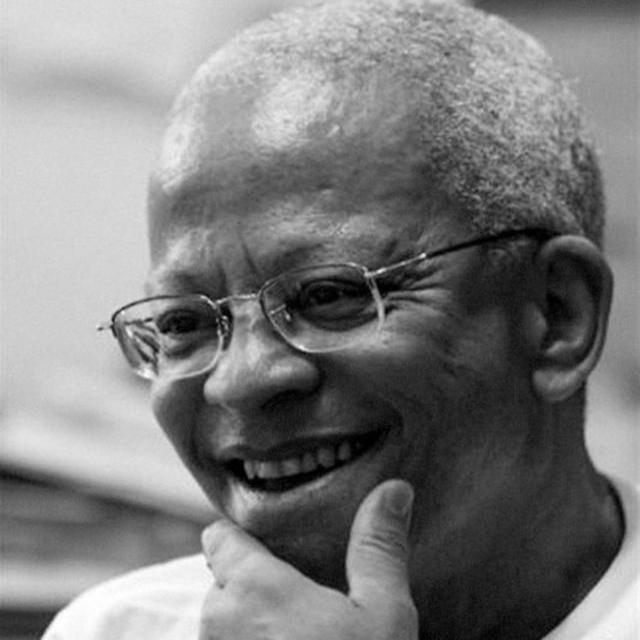sem_oculos: (60, 204, 586, 361)
